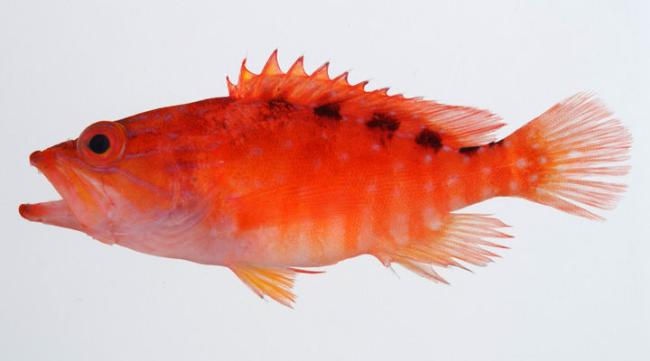fish: (18, 49, 633, 308)
